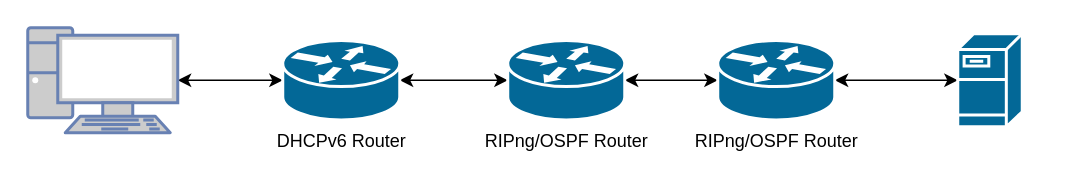
Some shapes in this 1067 by 189 pixel diagram are drawn without their labels. The centre of each missing label's shape, as x and y in pixels:
"TFTP Client" belongs at (x=102, y=80).
"TFTP Server" belongs at (x=989, y=80).
